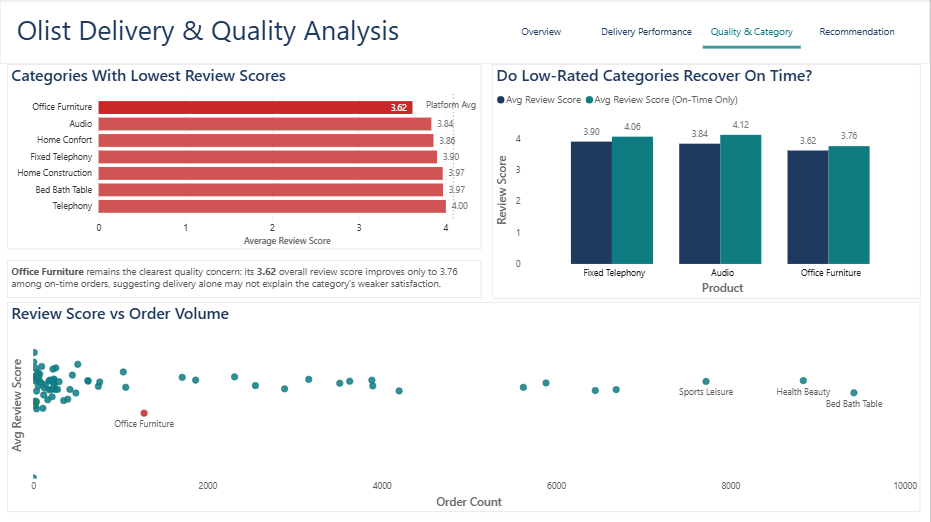

The page's visual inventory and layout, read from the dashboard file:
{"tool":"powerbi","page":{"name":"Quality & Category","canvas":[1280,720],"ordinal":2},"visuals":[{"type":"clusteredBarChart","title":"Categories With Lowest Review Scores","fields":{"Category":["fact_order_items.product_category_name_english"],"Y":["fact_orders.Avg Review Score"]},"box":[10.1,89,653.4,255.3],"z":0},{"type":"clusteredColumnChart","title":"Do Low-Rated Categories Recover On Time?","fields":{"Category":["fact_order_items.product_category_name_english"],"Y":["fact_orders.Avg Review Score","fact_orders.Avg Review Score (On-Time Only)"]},"box":[677,89,589.6,322.5],"z":1000},{"type":"shape","box":[0,0,1280,88.6],"z":2000},{"type":"pageNavigator","box":[677.7,19.7,571.1,49.2],"z":3000},{"type":"textbox","box":[18.1,11.5,569.4,62.4],"z":4000},{"type":"scatterChart","title":"Review Score vs Order Volume","fields":{"X":["fact_orders.Order Count"],"Y":["fact_orders.Avg Review Score"],"Category":["fact_order_items.Scatter Label","fact_order_items.product_category_name_english"],"Series":["fact_order_items.product_category_name_english"]},"box":[9.6,417,1256.6,289],"z":5000},{"type":"textbox","box":[10.1,359.5,653.4,52.1],"z":6000}]}

Visuals, with their boxes in screenshot pixels (x1, y1, x2, y2), scaled from the page's 1280x720 canvas onto the 931x522 screenshot:
"Categories With Lowest Review Scores" clusteredBarChart: 7, 65, 483, 250
"Do Low-Rated Categories Recover On Time?" clusteredColumnChart: 492, 65, 921, 298
shape: 0, 0, 930, 64
pageNavigator: 493, 14, 908, 50
textbox: 13, 8, 427, 54
"Review Score vs Order Volume" scatterChart: 7, 302, 921, 512
textbox: 7, 261, 483, 298
